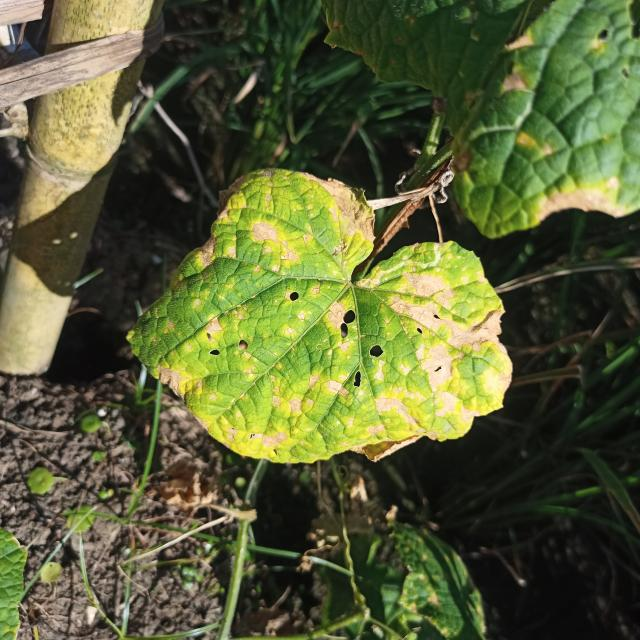disease_cucumber: (139, 171, 506, 460)
